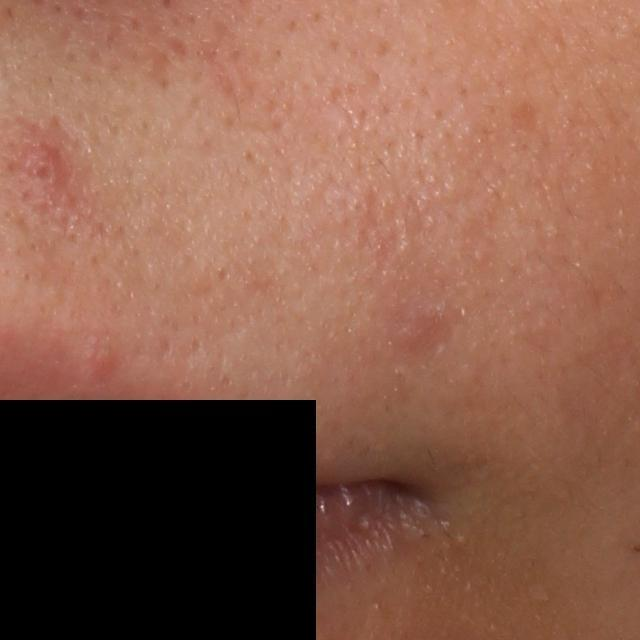papule: (20, 130, 79, 201)
